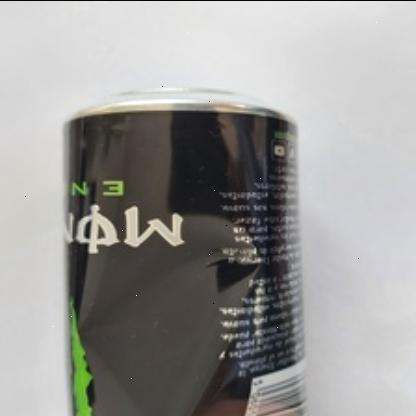Can: (61, 90, 308, 416)
